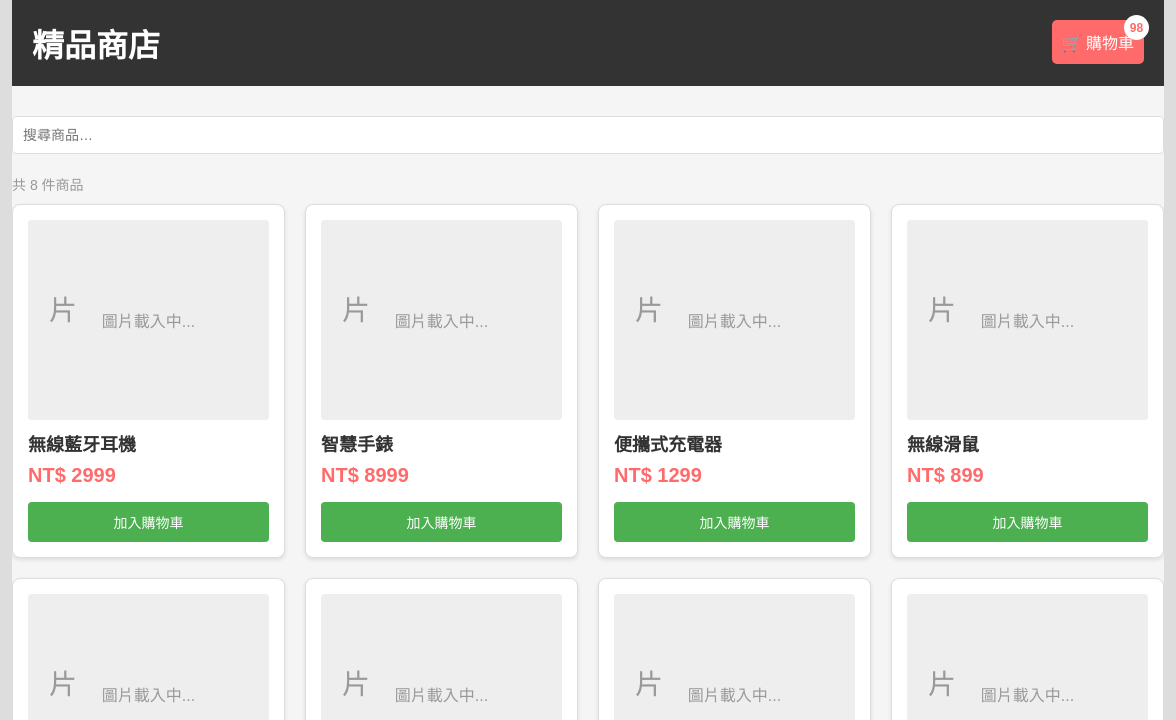
Test: Ticket 04: show total cart quantity › shows exactly 99 without capping
The image size is (1176, 720).
Expected: the button with aria-label "開啟購物車，共 98 件商品" is shown, [1052,20,1144,64]
Click the button "加入購物車" below "無線滑鼠". click: (1028, 522)
box: [907,502,1148,542]
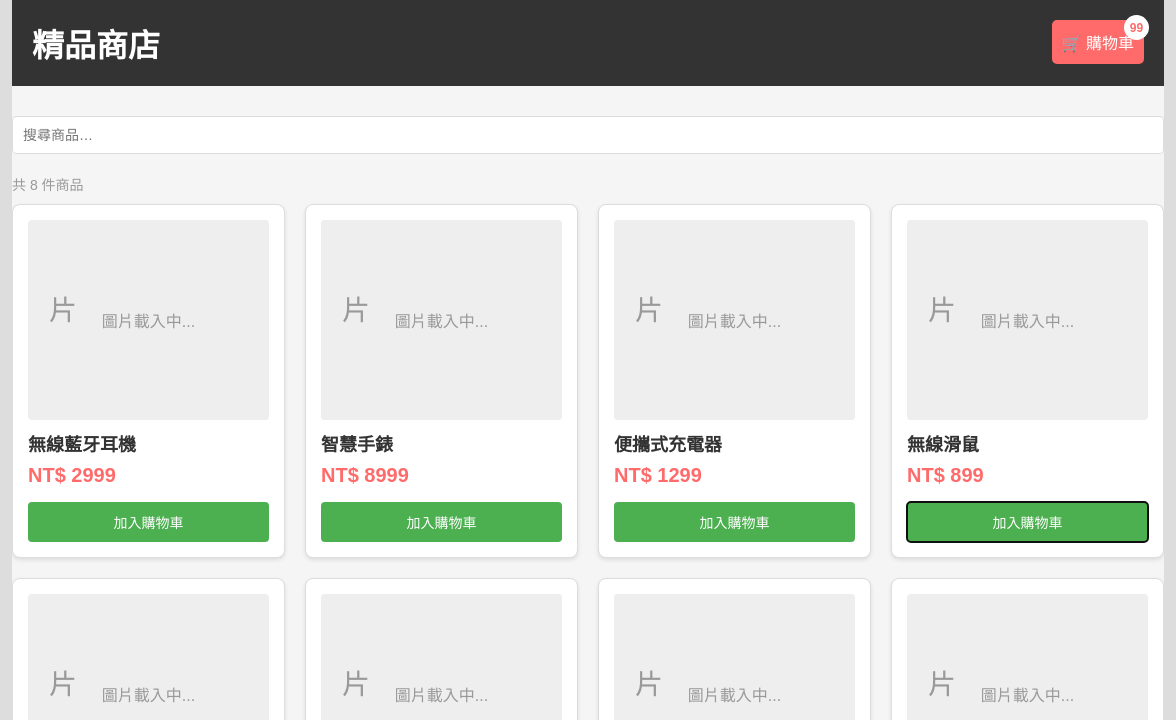
Expected: the button with aria-label "開啟購物車" does not show "99+", [1052,20,1144,64]
Result: the button with aria-label "開啟購物車" shows "99" at [1052,20,1144,64]
